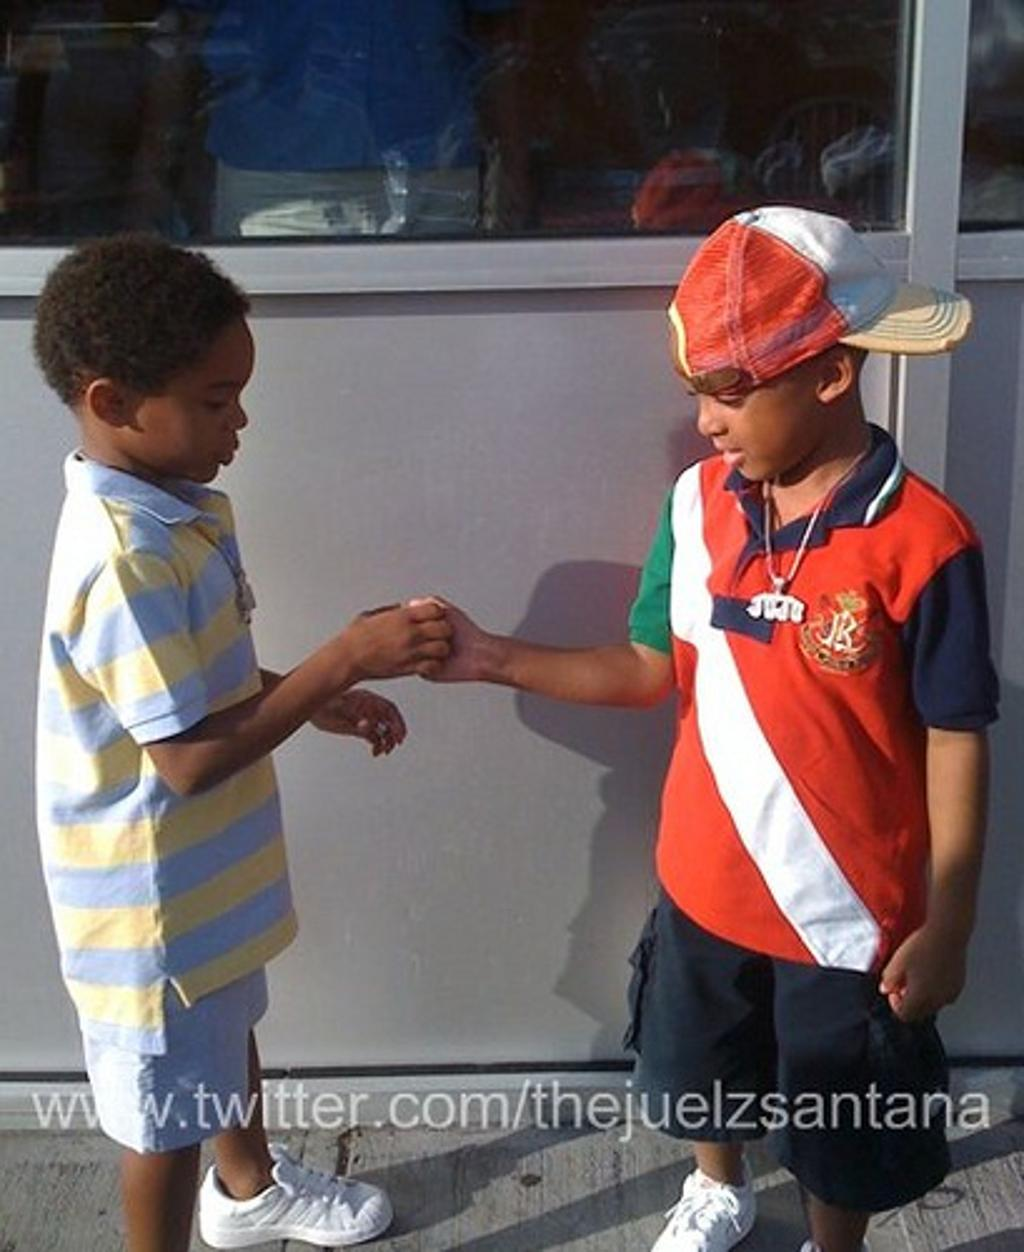face: (147, 310, 255, 486), (689, 318, 804, 484)
